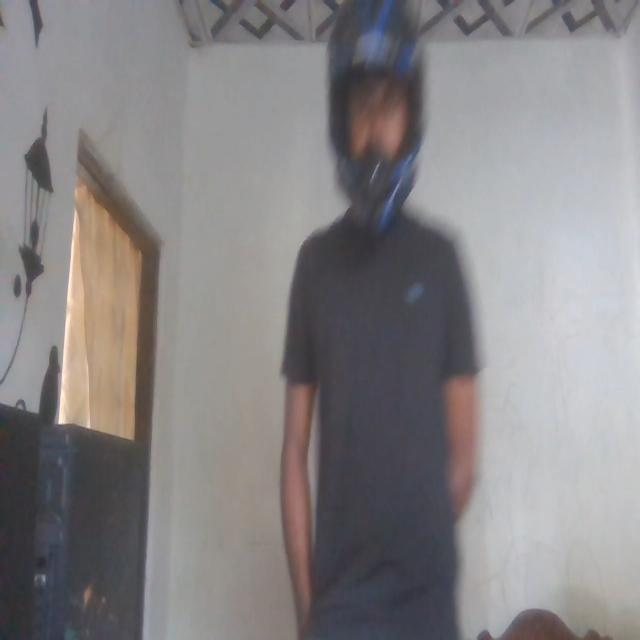Helmet_Wearer: (324, 6, 424, 224)
Person: (276, 8, 486, 640)
